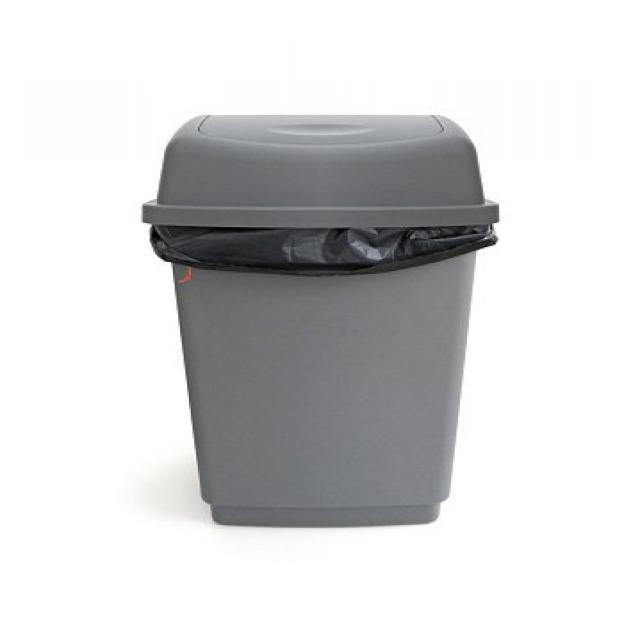Dumpster: (143, 110, 502, 530)
